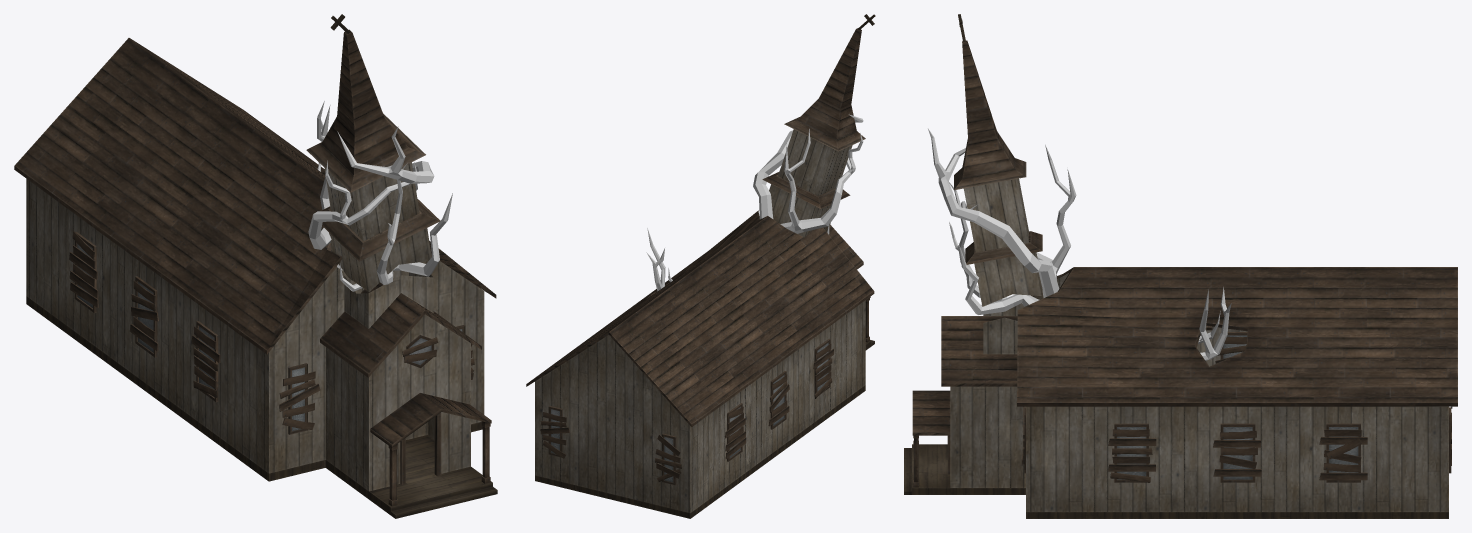
Rendered from Church.fbx.
3 views of the same model, side by side, from view 1: azimuth 30°, elevation 25°; view 2: azimuth 150°, elevation 25°; view 3: azimuth 270°, elevation 25° (orthographic). The views are drawn at different scales.
Parts seen in each view (by area): view 1: Church_Broken, Tree_Church; view 2: Church_Broken, Tree_Church; view 3: Church_Broken, Tree_Church.
Boxes of the visible parts, x1,y1,x2,y2 form: Church_Broken: (14,14,497,518); Tree_Church: (308,101,452,291); Church_Broken: (526,14,875,518); Tree_Church: (646,114,863,291); Church_Broken: (904,14,1457,518); Tree_Church: (928,128,1231,360).
Bounding box in the file's own units: 819 × 1662 × 1965.
